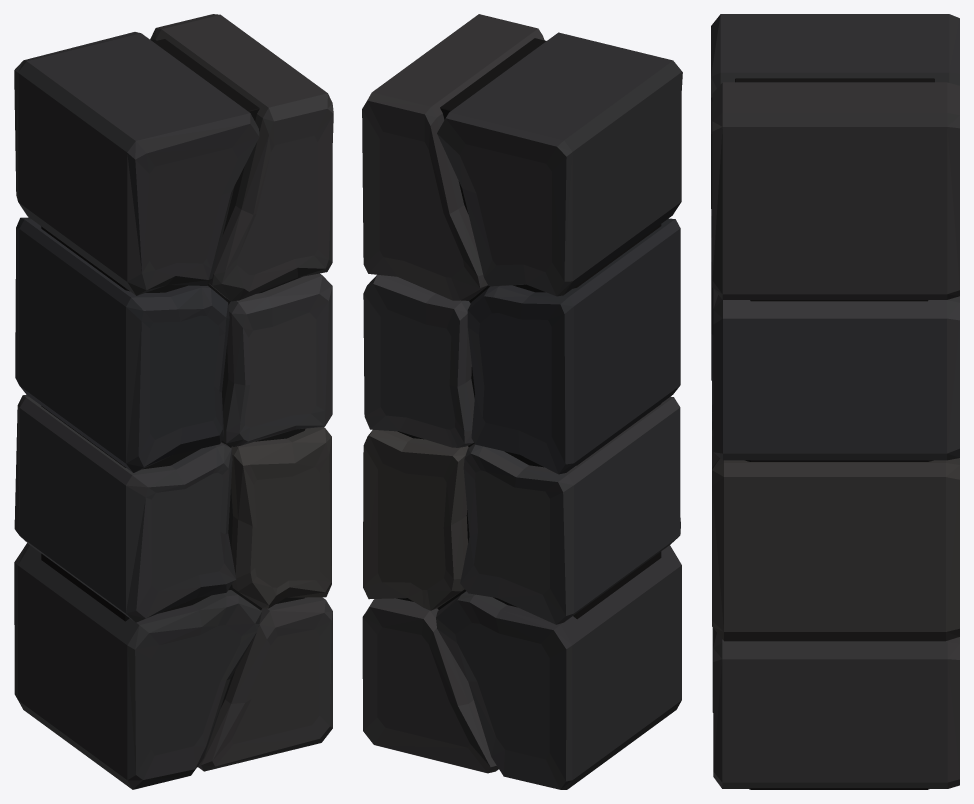
File: Wall_Stone_A.fbx
3 renders of one model, left to right at view 1: azimuth 30°, elevation 25°; view 2: azimuth 150°, elevation 25°; view 3: azimuth 270°, elevation 25°, orthographic. The views are drawn at different scales.
Visible parts, largest first — view 1: Wall_Stone_A; view 2: Wall_Stone_A; view 3: Wall_Stone_A.
Boxes of the visible parts, x1,y1,x2,y2 form: Wall_Stone_A: (14, 14, 333, 789); Wall_Stone_A: (362, 14, 682, 789); Wall_Stone_A: (711, 14, 959, 789).
Size of the model in its own units: 1 by 3 by 0.996.
Materials: 1 (1 with a texture image).
